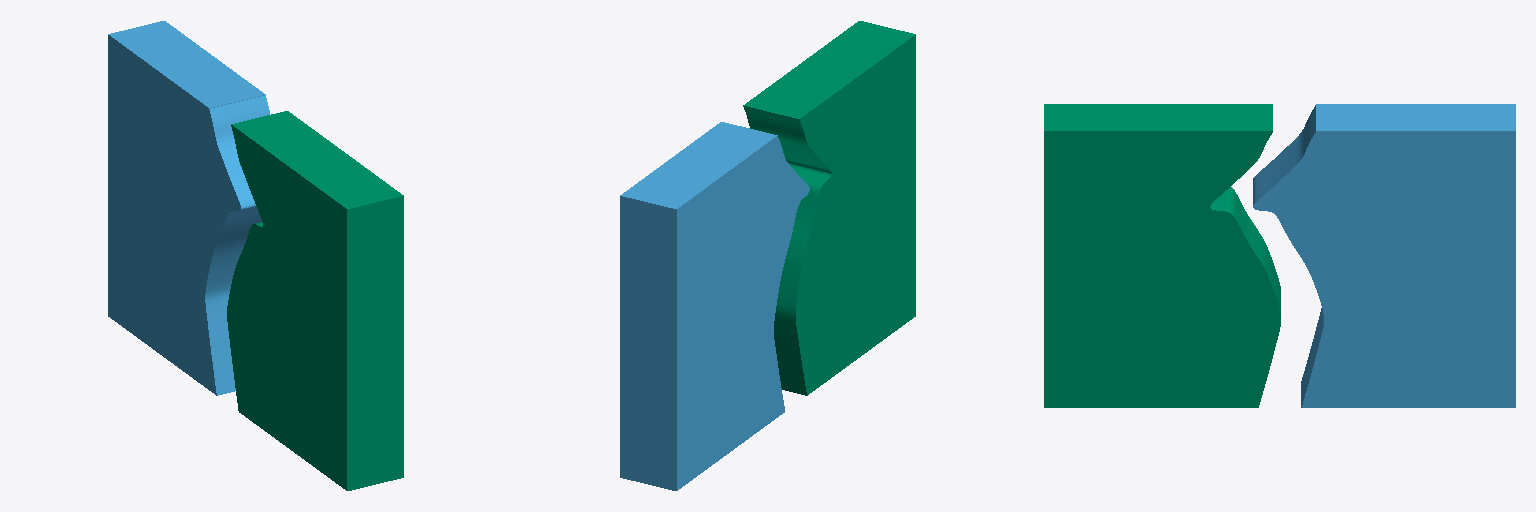
URDF robot description (partnet_75612c0c1d5730eaf93a86670701266):
<?xml version="1.0" ?>
<robot name="partnet_75612c0c1d5730eaf93a86670701266">
	<link name="base"/>
	<link name="link_1">
		<visual name="base_body-2">
			<origin xyz="0 0 0"/>
			<geometry>
				<mesh filename="tunnel_left_2.obj" scale="1.0 1.0 1.0"/>
			</geometry>
		</visual>
		<collision>
			<origin xyz="0 0 0"/>
			<geometry>
				<mesh filename="tunnel_left_2.obj" scale="1.0 1.0 1.0"/>
			</geometry>
		</collision>
	</link>
	<link name="link_2">
		<visual name="base_body-3">
			<origin xyz="0 0 0"/>
			<geometry>
				<mesh filename="tunnel_right_2.obj" scale="1.0 1.0 1.0"/>
			</geometry>
		</visual>
		<collision>
			<origin xyz="0 0 0"/>
			<geometry>
				<mesh filename="tunnel_right_2.obj" scale="1.0 1.0 1.0"/>
			</geometry>
		</collision>
	</link>
	<joint name="joint_1" type="fixed">
		<origin rpy="1.570796326794897 0 -1.570796326794897" xyz="0 0 0"/> 
		<child link="link_1"/>
		<parent link="base"/>
	</joint>
	<joint name="joint_2" type="fixed">
		<origin rpy="0 0 0" xyz="0 0 0"/>
		<child link="link_2"/>
		<parent link="link_1"/>
	</joint>
</robot>

--- Facts derived from the render (not from the file) ---
The picture shows the robot from 3 angles, left to right: view 1: azimuth 30°, elevation 25°; view 2: azimuth 150°, elevation 25°; view 3: azimuth 270°, elevation 25°; orthographic projection.
Model partnet_75612c0c1d5730eaf93a86670701266 with 3 links and 2 joints (2 fixed), rooted at base, posed all joints at 0.
Visible links, largest first — view 1: link_2, link_1; view 2: link_1, link_2; view 3: link_2, link_1.
Link boxes in pixels (left/top/right/bottom): link_2: left=227, top=111, right=403, bottom=490; link_1: left=108, top=21, right=269, bottom=395; link_1: left=620, top=122, right=809, bottom=490; link_2: left=743, top=21, right=915, bottom=395; link_2: left=1044, top=104, right=1280, bottom=407; link_1: left=1253, top=104, right=1515, bottom=407.
Bounding box of the posed robot: 0.03 × 0.22 × 0.143 m (x, y, z).
Meshes: 2 distinct files referenced, 2 mesh visuals loaded (2 OBJ).